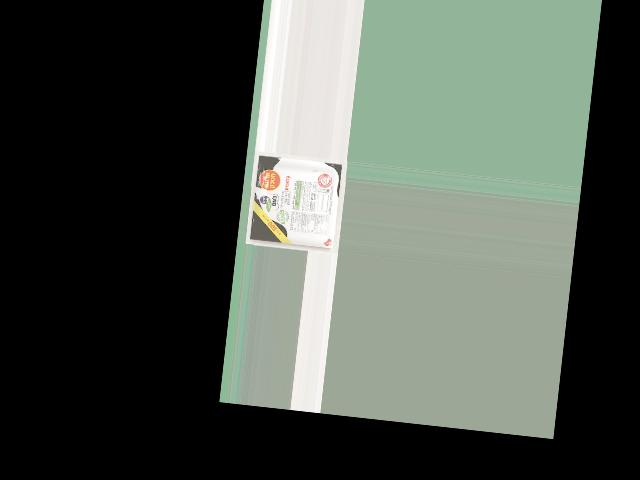cheese: (251, 154, 340, 253)
